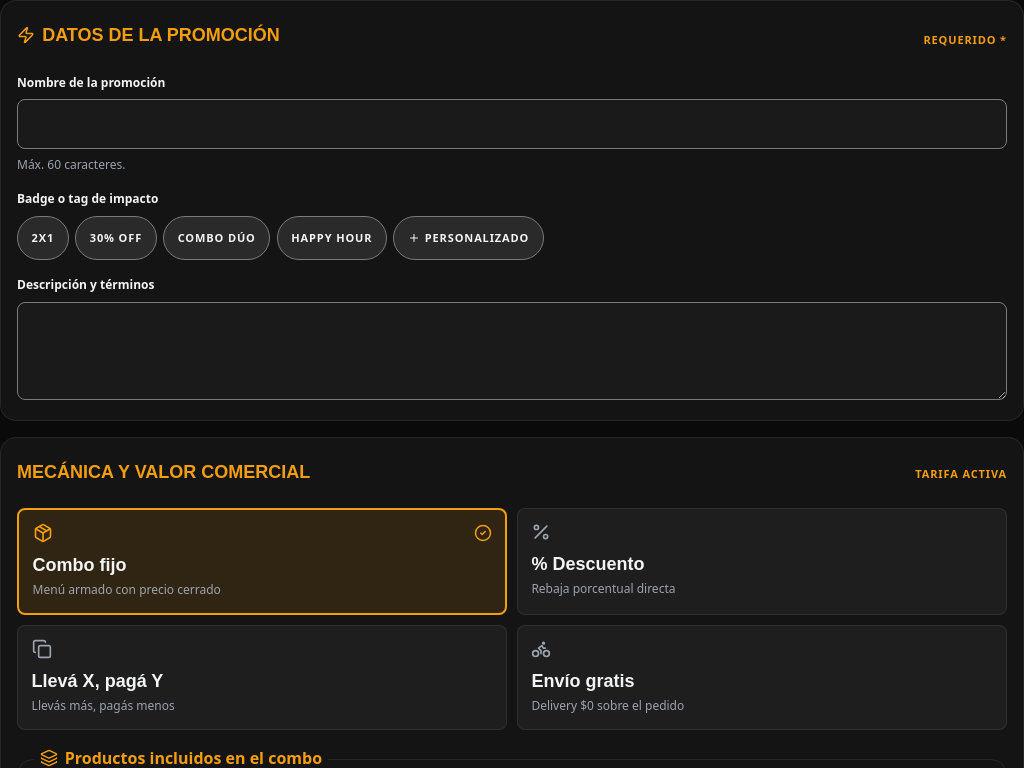
Test: PromotionForm preview › previews a combo without a photo as its card of the Combos section (issue #54)
This screenshot has width=1024, height=768.
Type "Combo Smash" into the field labelled "Nombre de la promoción".
click(512, 124); type("Combo Smash")  # box [17,99,1007,149]
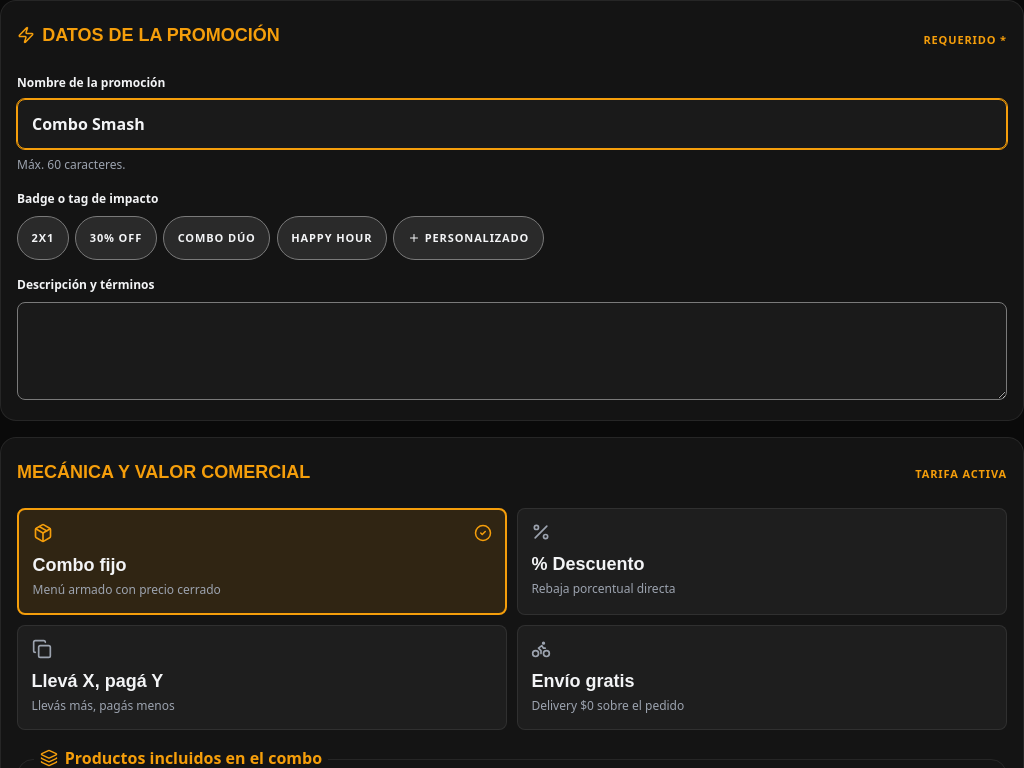
// Then the text the store writes in "Descripción y términos", as it is typed.
Type "Dos smash con papas" into the text box labelled "Descripción y términos".
click(512, 351); type("Dos smash con papas")  # box [17,302,1007,400]
(page scrolled)
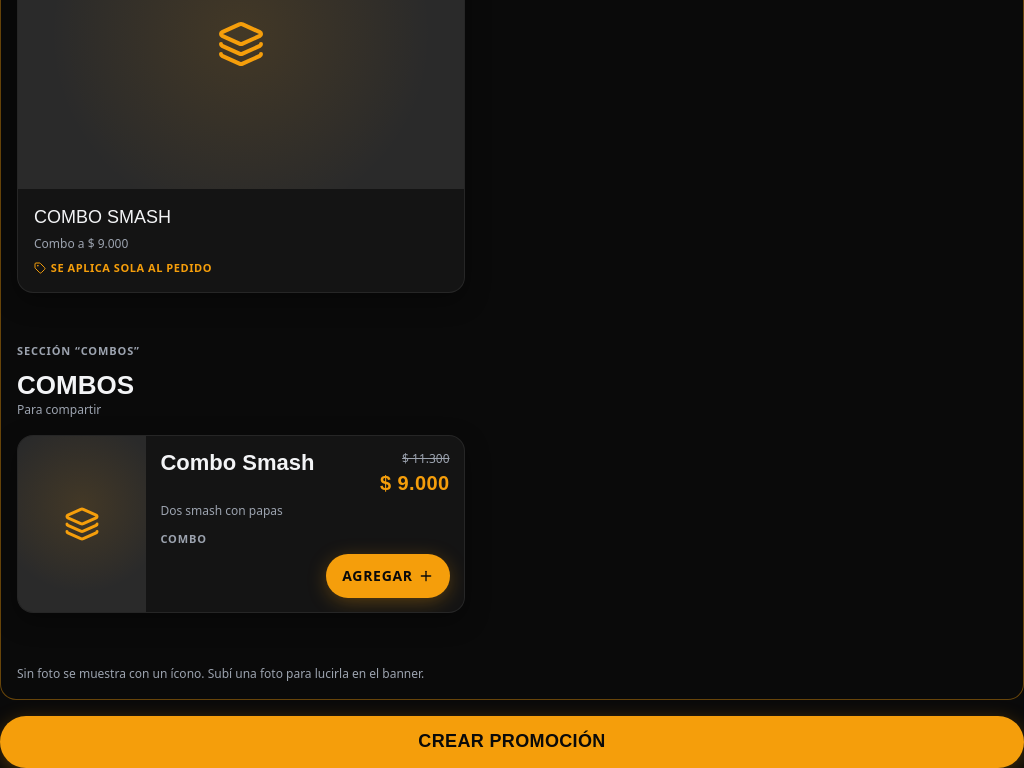
Expected: the text "$ 9.000" is shown, [380,468,450,498]
Expected: the text "Dos smash con papas" is shown, [160,502,283,519]
